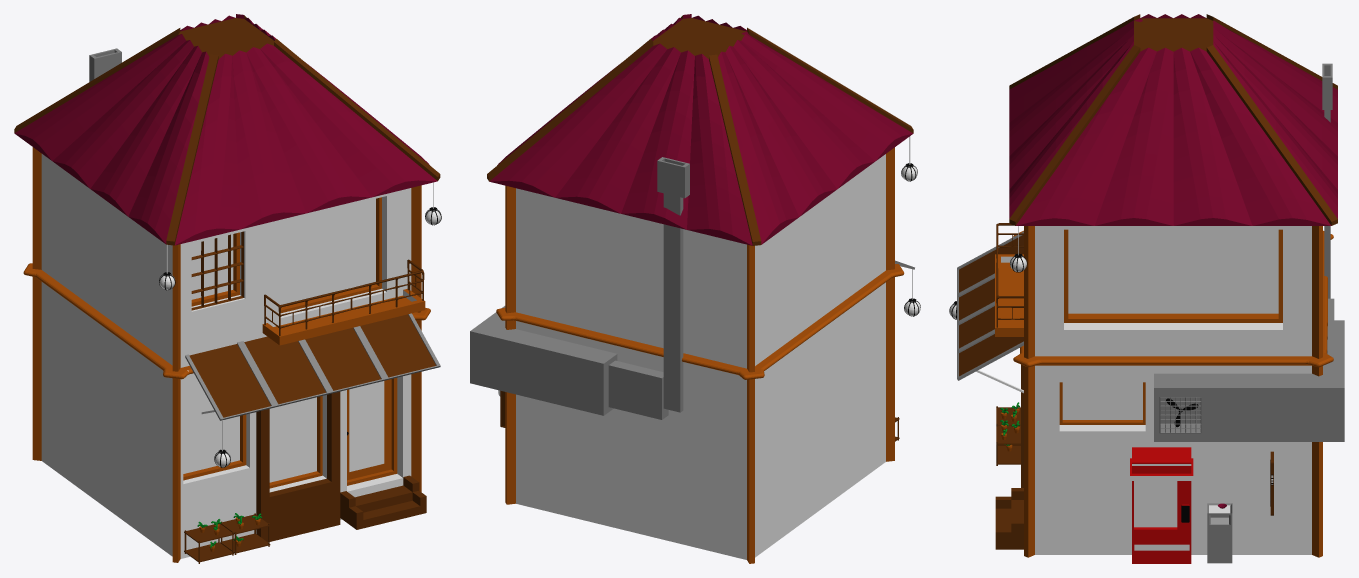
Rendered from Японский дом киберпанк.fbx.
The picture shows the model from 3 angles, left to right: view 1: azimuth 30°, elevation 25°; view 2: azimuth 150°, elevation 25°; view 3: azimuth 270°, elevation 25°; orthographic projection. The views are drawn at different scales.
Visible parts, largest first — view 1: Plane.001, Plane.002, Plane.021, Plane.003, Cube.005, Plane.020, Plane.019, Plane.012, Plane.005, Cube; view 2: Plane.001, Plane.002, Cube; view 3: Plane.001, Plane.002, Cube, Cube.002, Plane.021, Cube.005, Cube.003, Cube.001, Plane.005, Plane.020.
Part boxes in pixels (bbox=[...]): Plane.001: bbox=[23, 147, 430, 562]; Plane.002: bbox=[14, 14, 440, 245]; Plane.021: bbox=[185, 313, 440, 420]; Plane.003: bbox=[256, 391, 340, 541]; Cube.005: bbox=[340, 475, 426, 529]; Plane.020: bbox=[264, 259, 424, 335]; Plane.019: bbox=[191, 231, 243, 310]; Plane.012: bbox=[184, 523, 233, 563]; Plane.005: bbox=[220, 513, 270, 554]; Cube: bbox=[89, 48, 121, 81]; Plane.001: bbox=[496, 147, 904, 563]; Plane.002: bbox=[487, 14, 913, 245]; Cube: bbox=[470, 157, 689, 419]; Plane.001: bbox=[995, 226, 1333, 557]; Plane.002: bbox=[1009, 14, 1337, 225]; Cube: bbox=[1154, 63, 1344, 441]; Cube.002: bbox=[1130, 447, 1193, 563]; Plane.021: bbox=[957, 231, 1023, 380]; Cube.005: bbox=[995, 488, 1023, 549]; Cube.003: bbox=[1207, 503, 1232, 563]; Cube.001: bbox=[1159, 397, 1201, 433]; Plane.005: bbox=[996, 424, 1020, 465]; Plane.020: bbox=[996, 223, 1023, 327].
Size of the model in its own units: 1188 by 1716 by 1325.
